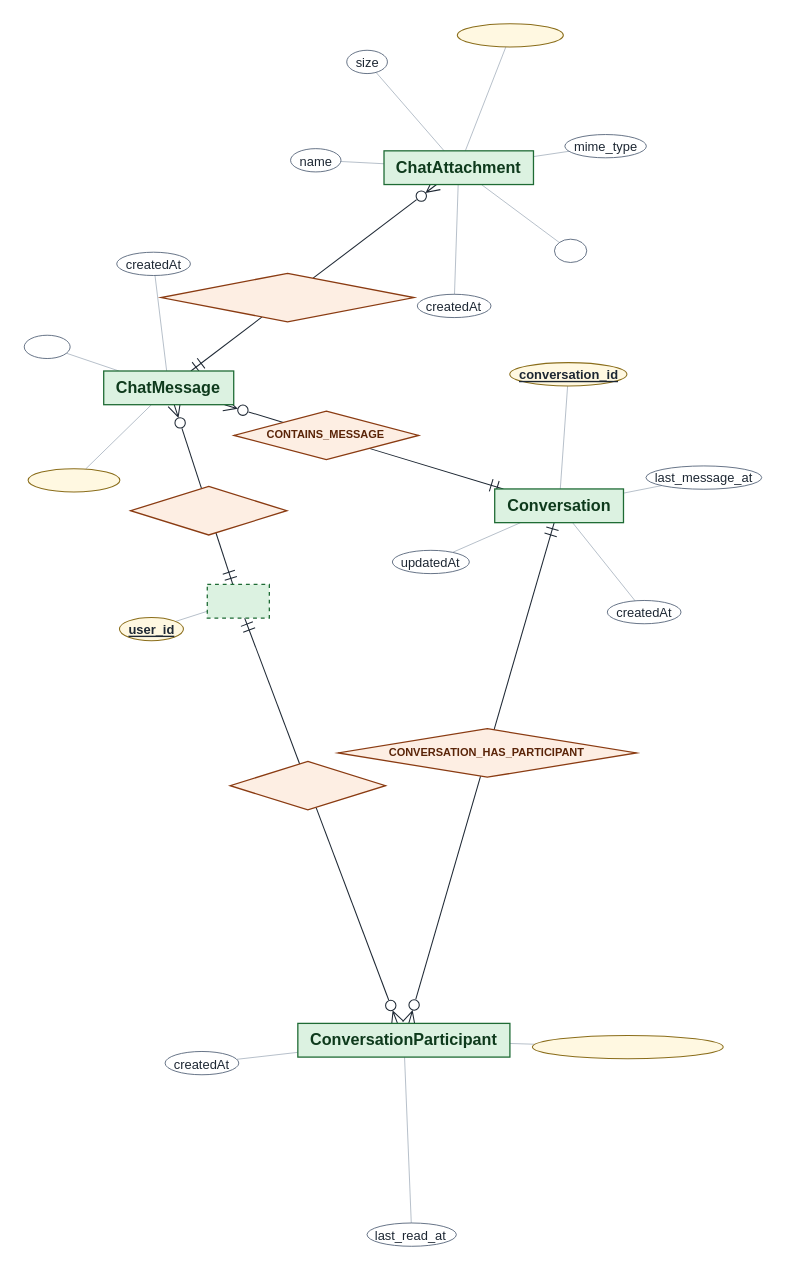
The diagram is 785 pixels wide and 1271 high, and some of its shapes have lost their labels. Here are the shapes that lost their labels. From the top down, the box of each, then its label:
(456, 22, 563, 47): attachment_id
(553, 238, 586, 262): url
(160, 272, 414, 322): MESSAGE_HAS_ATTACHMENT
(23, 334, 70, 358): body
(27, 467, 120, 492): message_id
(129, 485, 287, 535): SENDS_MESSAGE
(206, 583, 269, 618): User
(229, 760, 385, 810): PARTICIPATES_IN
(531, 1034, 723, 1059): conversation_participant_id
